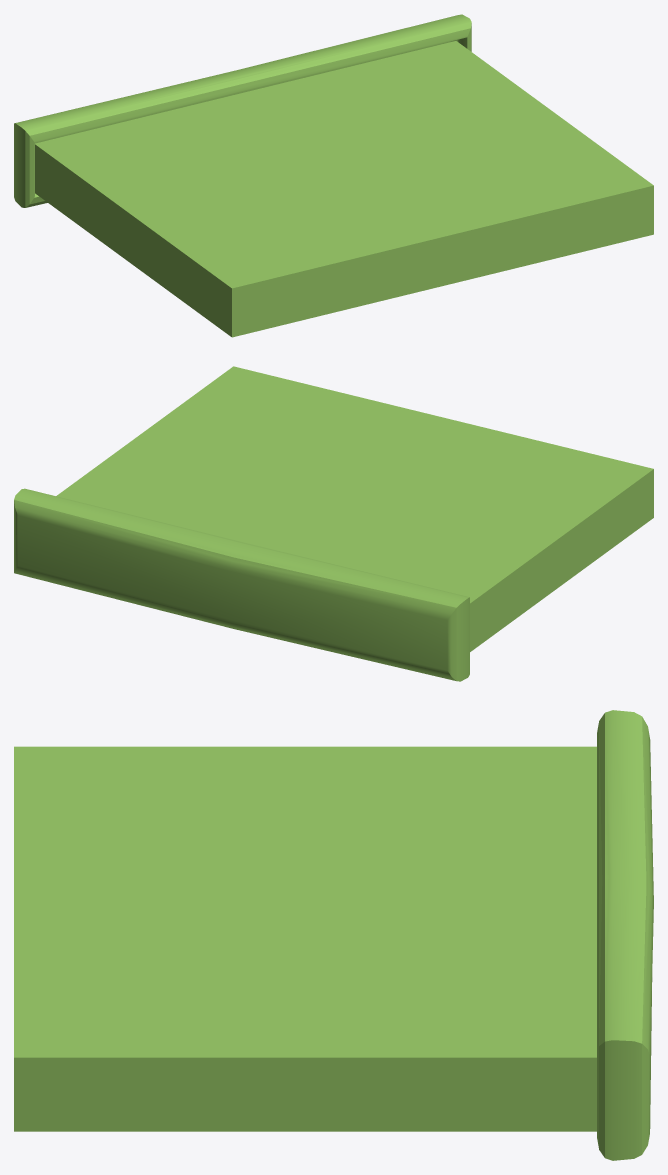
File: pared_coc90.fbx
3 renders of one model, top to bottom at view 1: azimuth 30°, elevation 25°; view 2: azimuth 150°, elevation 25°; view 3: azimuth 270°, elevation 25°, orthographic. The views are drawn at different scales.
Parts seen in each view (by area): view 1: cocinawall; view 2: cocinawall; view 3: cocinawall.
Boxes of the visible parts, left/top/right/bottom form: cocinawall: left=14, top=14, right=653, bottom=337; cocinawall: left=14, top=366, right=653, bottom=681; cocinawall: left=14, top=710, right=653, bottom=1160.
Bounding box in the file's own units: 448 × 78.95 × 367.
